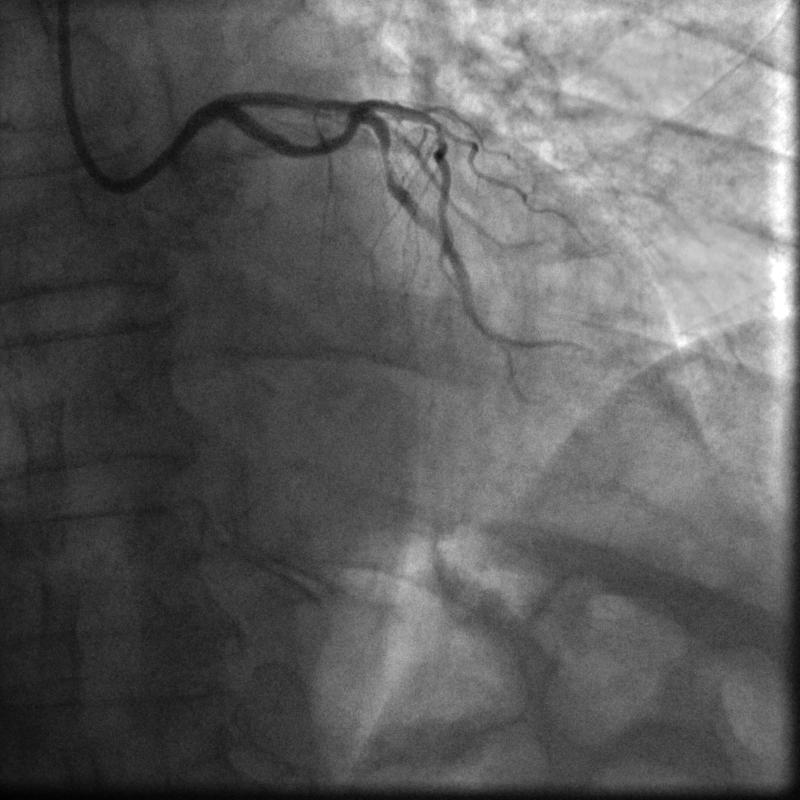Stenosis: (380, 149, 392, 174)
